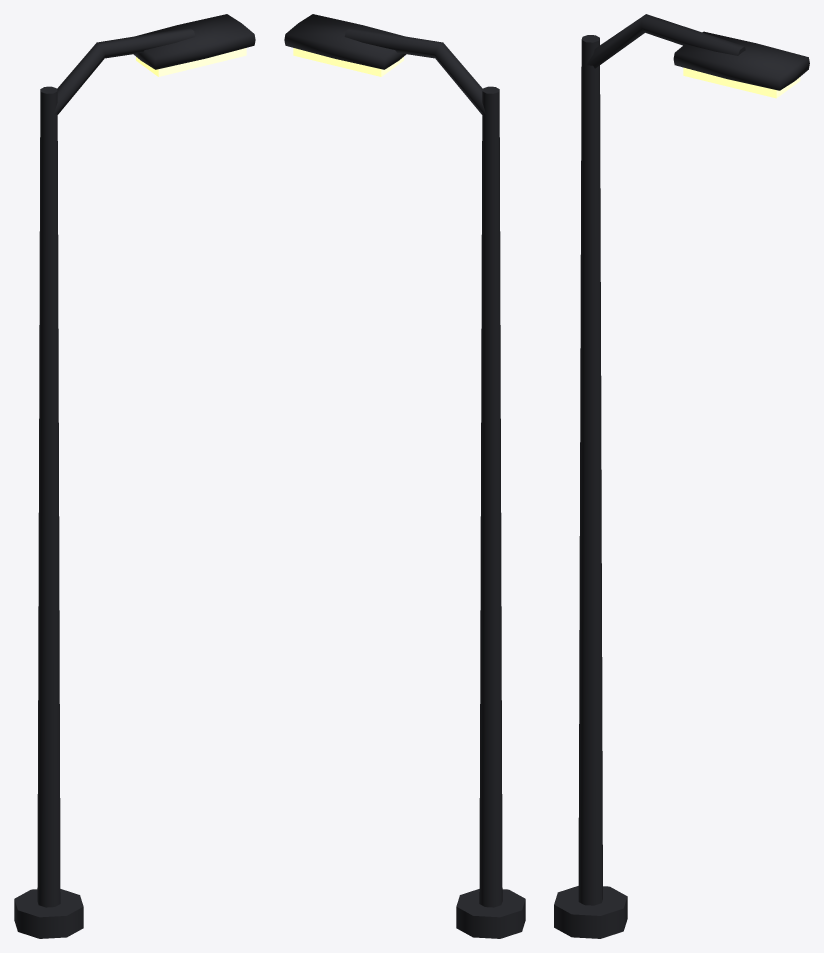
File: street_lamp_simple.glb
3 views of the same model, side by side, from view 1: azimuth 30°, elevation 25°; view 2: azimuth 150°, elevation 25°; view 3: azimuth 330°, elevation 25° (orthographic). The views are drawn at different scales.
Parts seen in each view (by area): view 1: root; view 2: root; view 3: root.
Boxes of the visible parts, x1=… form: root: x1=14, y1=14, x2=255, y2=938; root: x1=284, y1=14, x2=525, y2=938; root: x1=554, y1=14, x2=809, y2=938.
Size of the model in its own units: 0.87 by 3.21 by 0.24.
